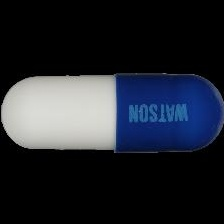63629-3152: (0, 0, 224, 224)
